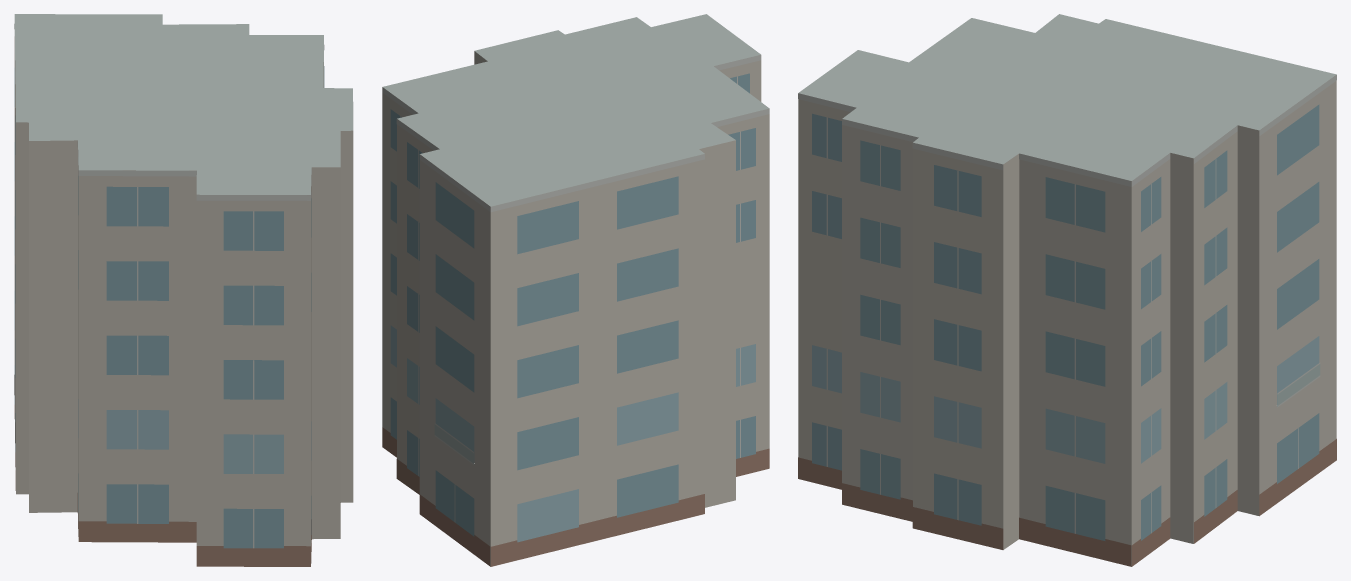
The model's file is survey-upis-32693490.glb.
3 views of the same model, side by side, from view 1: azimuth 30°, elevation 25°; view 2: azimuth 150°, elevation 25°; view 3: azimuth 270°, elevation 25° (orthographic). The views are drawn at different scales.
Visible parts, largest first — view 1: survey-upis-32693490.tmp; view 2: survey-upis-32693490.tmp; view 3: survey-upis-32693490.tmp.
Part boxes in pixels (left/top/right/bottom): survey-upis-32693490.tmp: left=14, top=14, right=353, bottom=566; survey-upis-32693490.tmp: left=382, top=14, right=769, bottom=566; survey-upis-32693490.tmp: left=798, top=14, right=1336, bottom=566.
Bounding box in the file's own units: 14.64 × 15.75 × 19.94.
